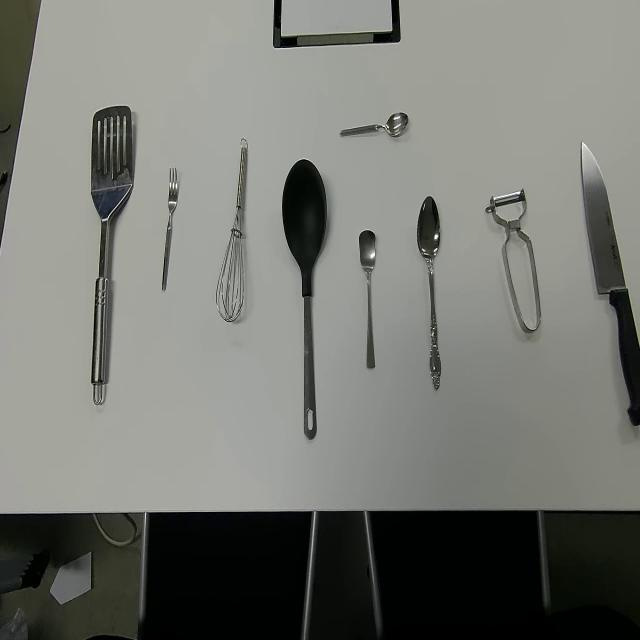Desert-Spoon: (416, 194, 442, 393)
Dinner-Fork: (160, 165, 179, 293)
Kitchen-Knife: (580, 139, 640, 430)
Peeler: (484, 186, 542, 334)
Serving-Spoon: (280, 157, 328, 443), (90, 104, 134, 406)
Tea-Spoon: (358, 228, 377, 370), (339, 110, 410, 139)
Whisk: (215, 136, 249, 324)
